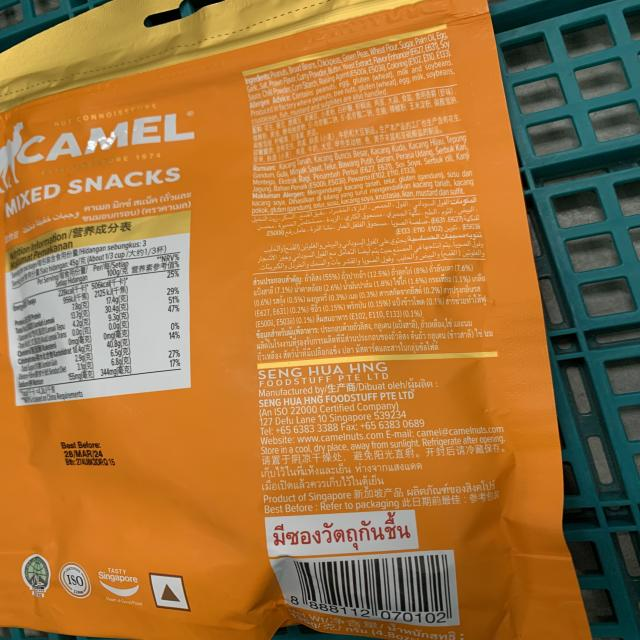object_name: (4, 5, 582, 640)
